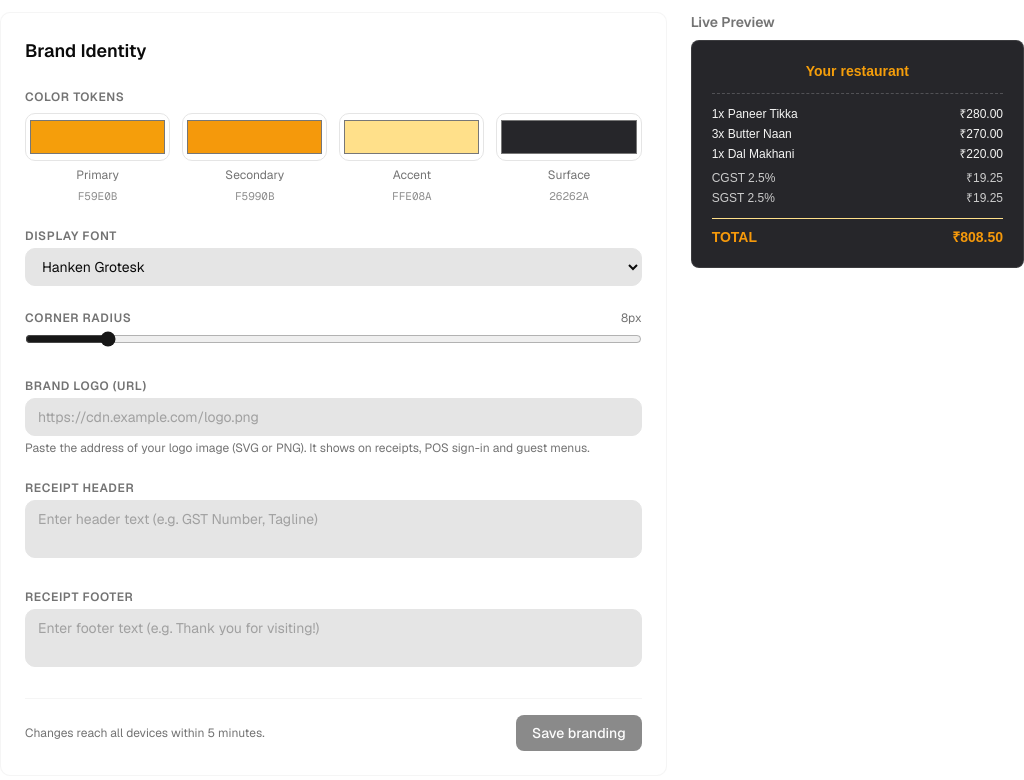
it: BrandingEditor › rolls back to an error toast with retry when saving fails
Type "Thanks!" into the text box with test id "branding-receipt-footer". click: (333, 638)
box: [25,609,642,667]
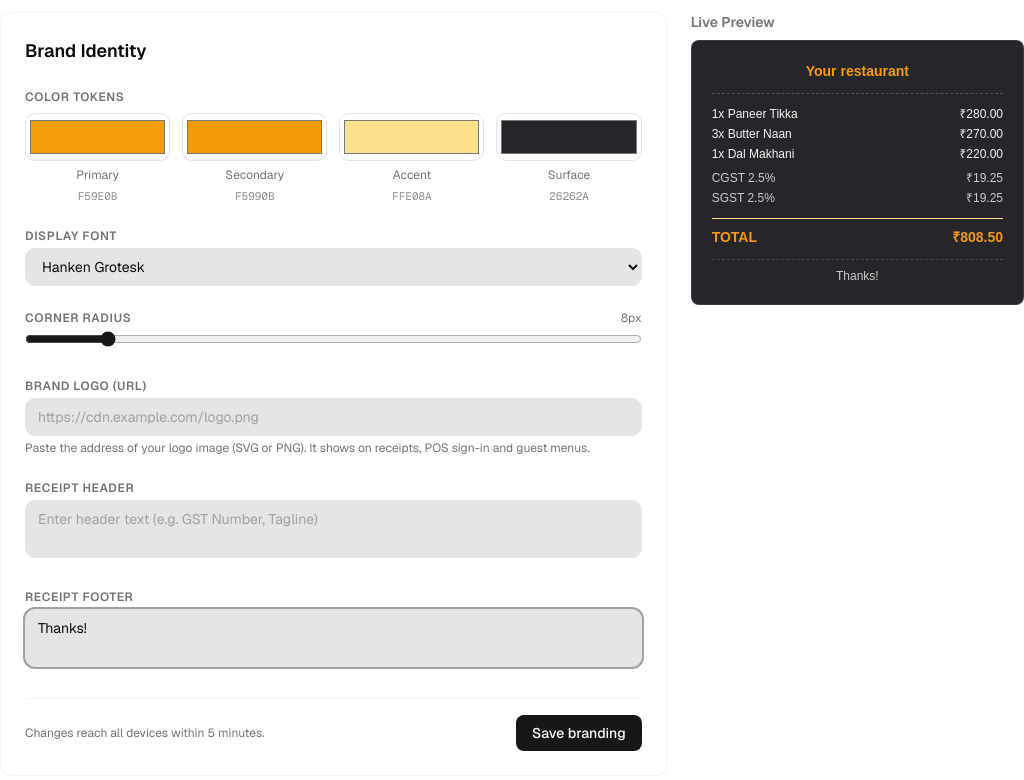
Click the button with test id "branding-save". click: (579, 733)
box: [516,715,642,751]
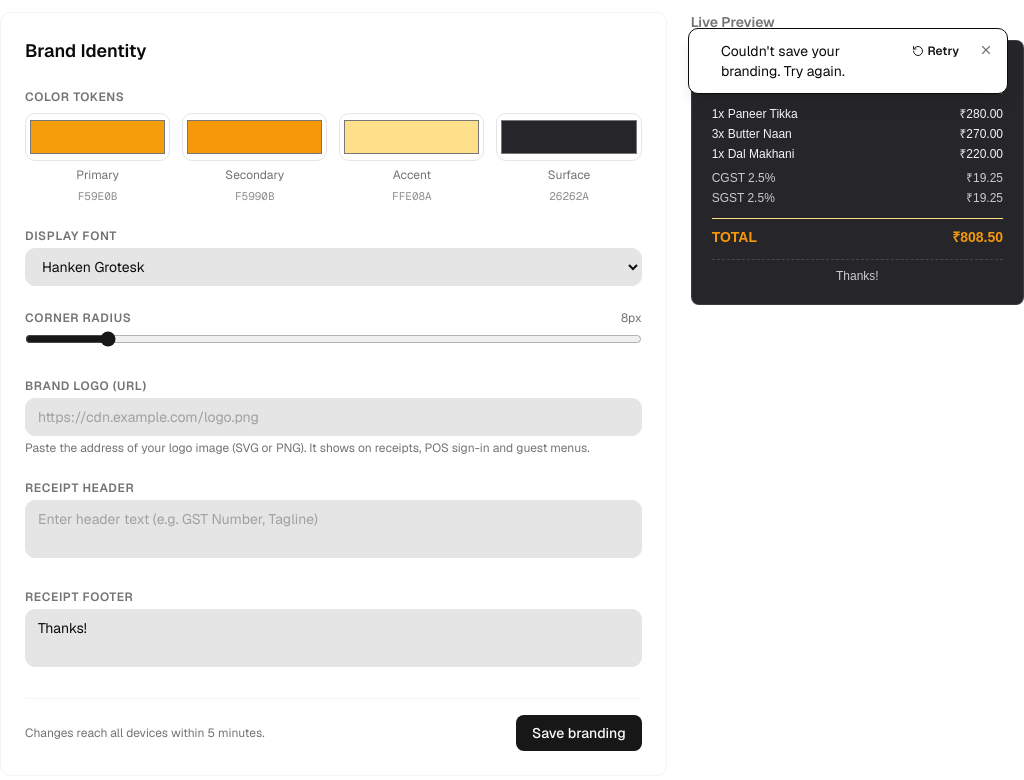
Expected: the button with test id "branding-save" is enabled, [516,715,642,751]
Expected: the element with test id "toast-error" shows "Couldn't save your branding", [721,42,845,80]
